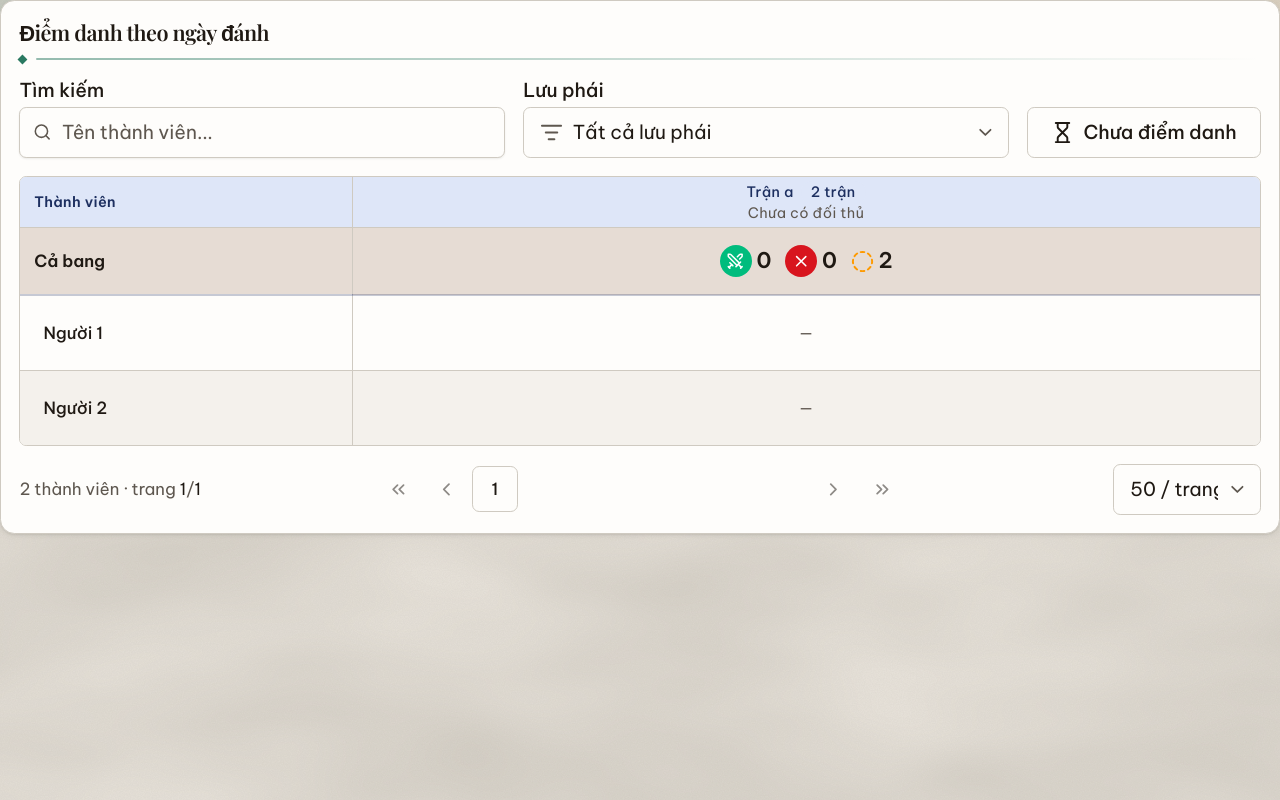
AttendanceGrid - admin bấm thẳng vào ô › Lưu gửi mọi ô đã đổi một lần, xong thì hết nháp
Click the button "—" in the row of "Người 1".
click(806, 333)  # box [783,310,829,356]
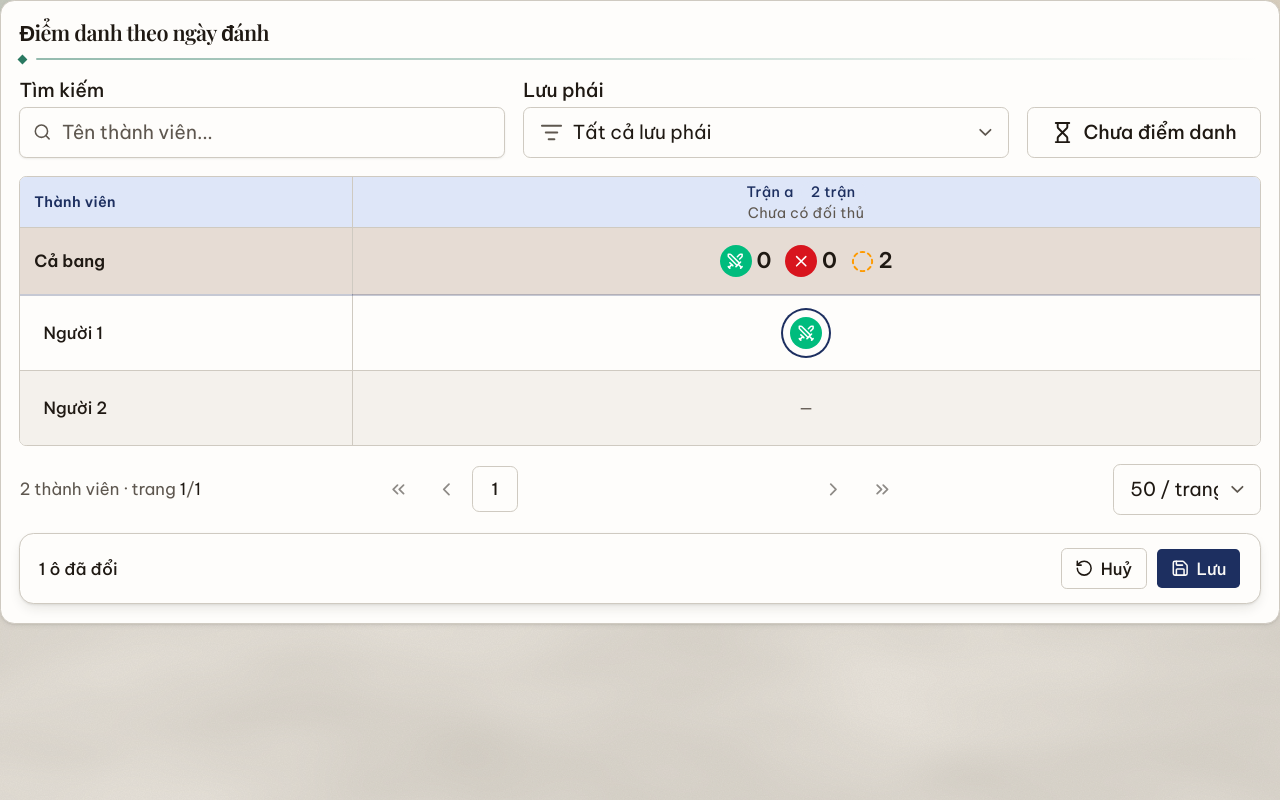
Click the button "—".
click(806, 408)  # box [783,385,829,431]
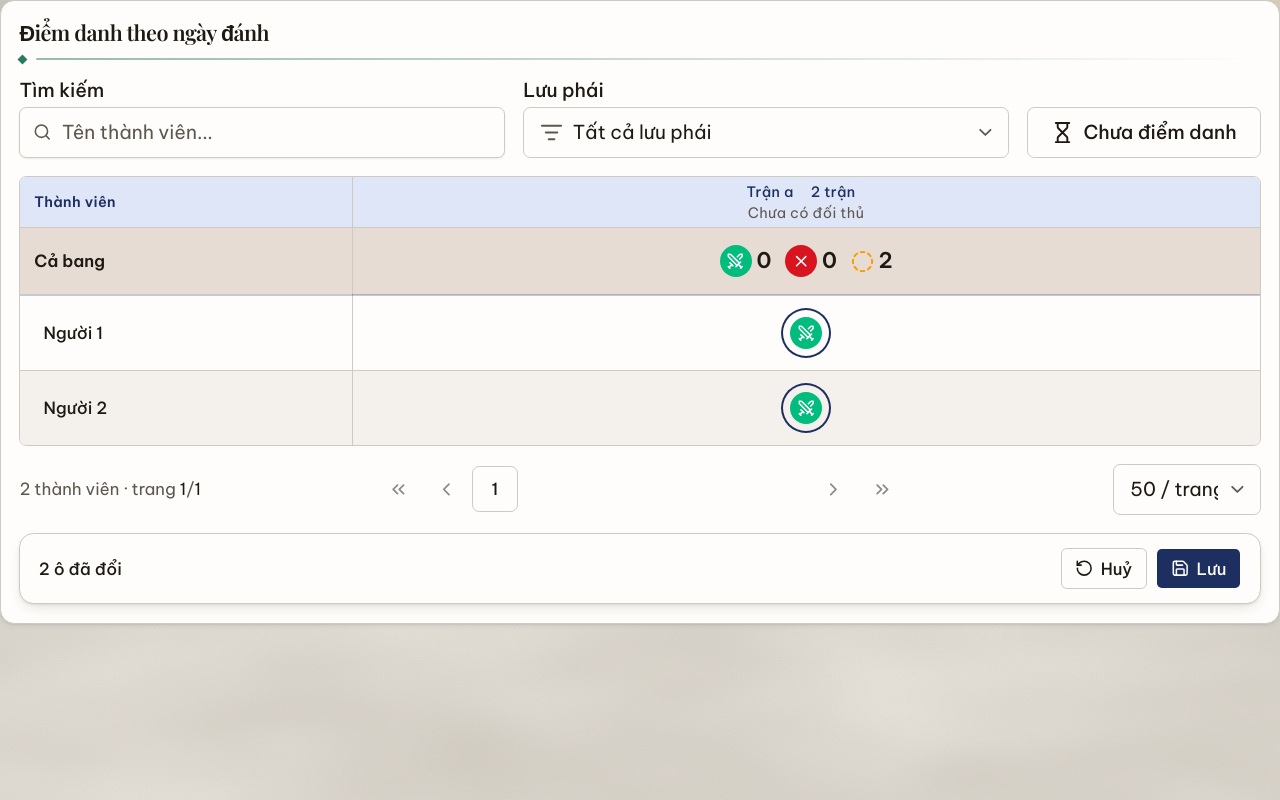
Click the button named "Người 2, Trận a: Có. Bấm để đổi.".
click(806, 408)  # box [783,385,829,431]
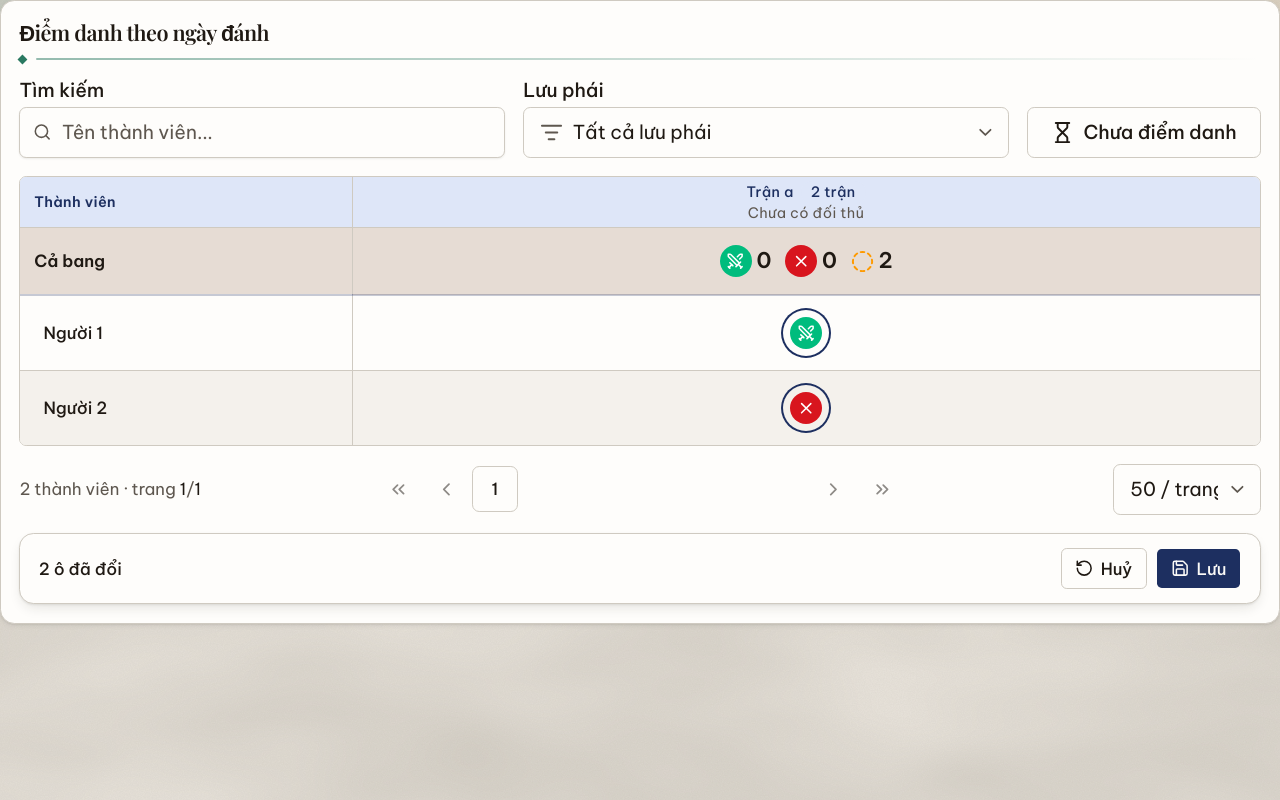
Click the button "Lưu".
click(1199, 569)  # box [1156,548,1241,589]
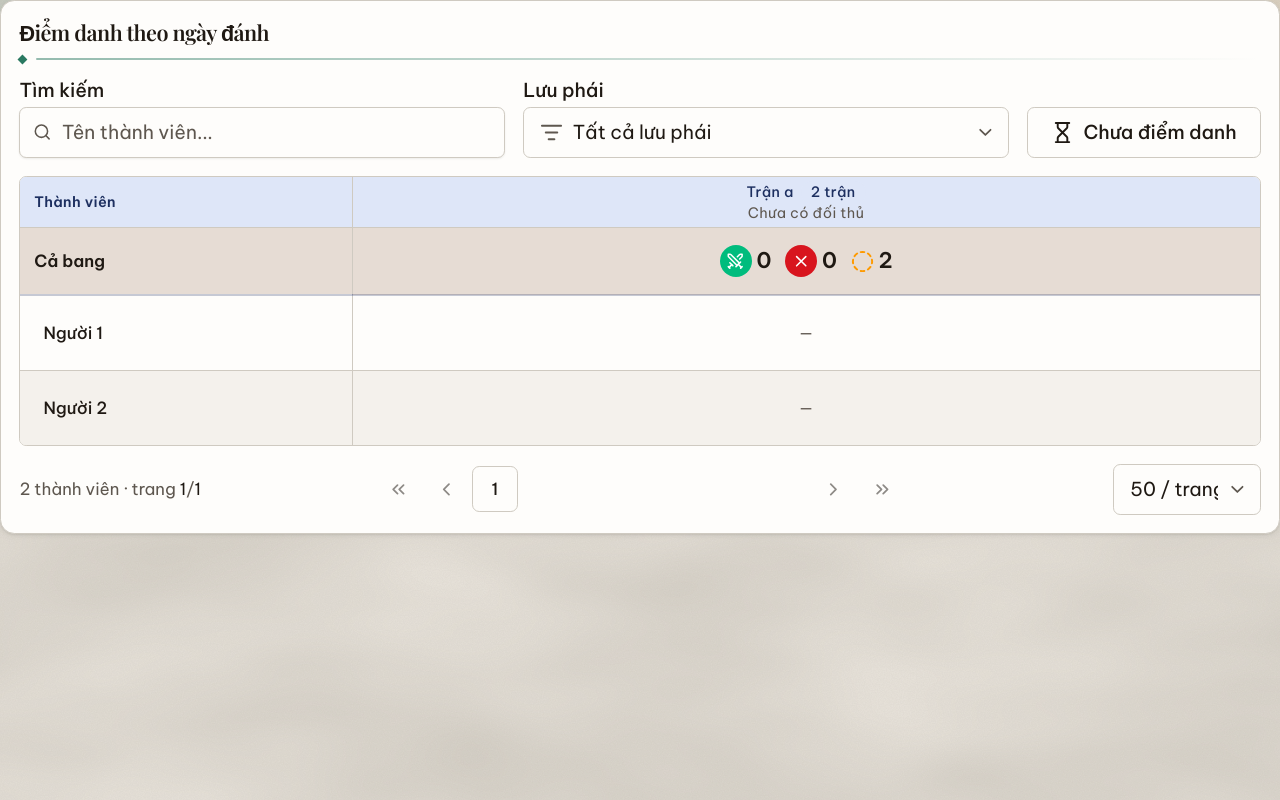
Result: the text "ô đã đổi" is gone
